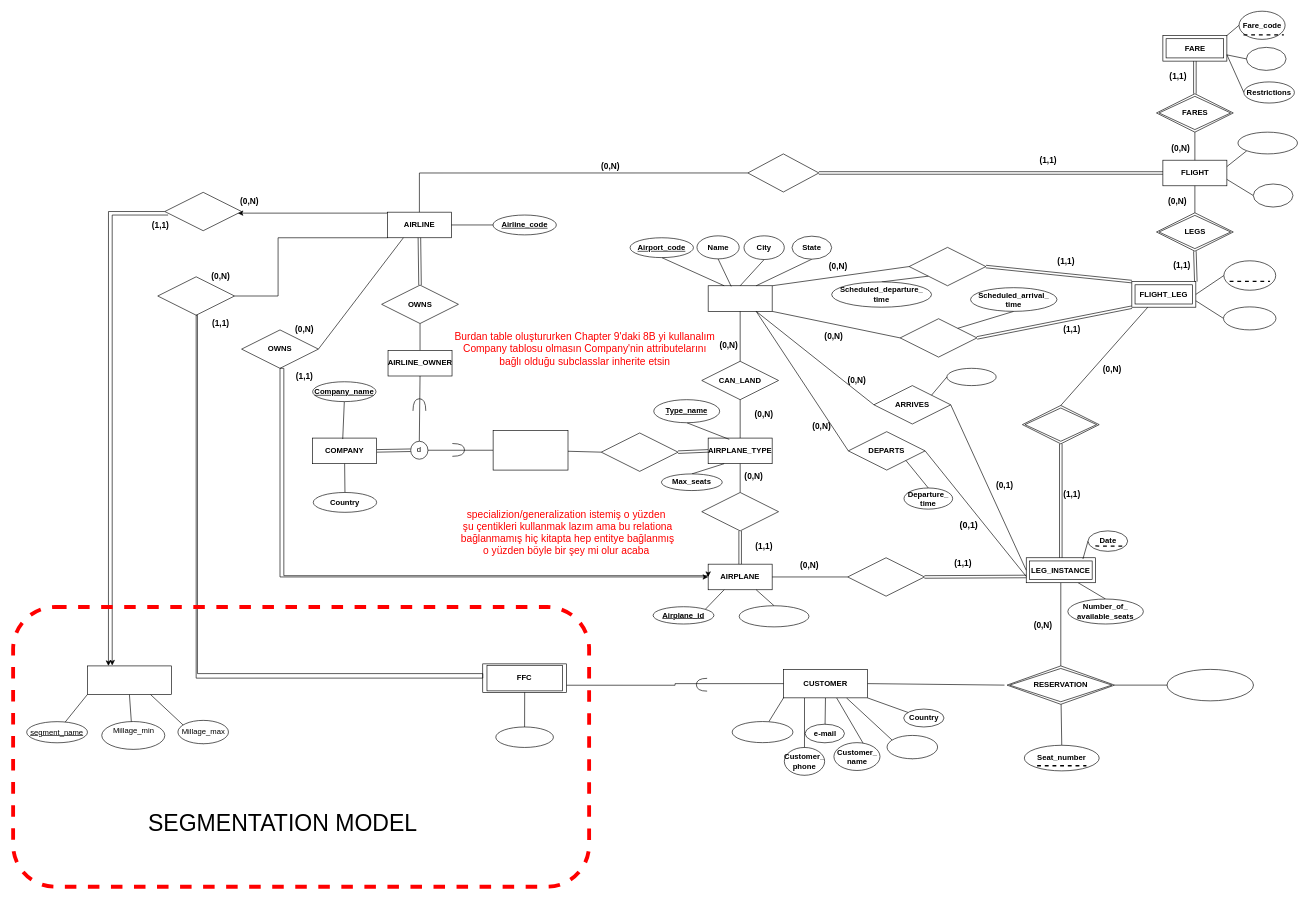
Image size: 1309x900. Some labels were removed from this diagram. The shapes that lost their labels are listed below. From the top down, each one's box as (x1, y1, x2, y2) in pixels, then its label:
(1246, 47, 1286, 70): Amount
(1237, 132, 1297, 154): Flight_number
(747, 153, 819, 192): HAS
(164, 192, 242, 231): OFFERS
(1253, 183, 1293, 207): Weekdays
(908, 247, 986, 286): DEPARTURE_ AIRPORT
(1223, 260, 1276, 290): Leg_number
(157, 276, 235, 315): LOGS
(708, 285, 772, 311): AIRPORT
(900, 318, 977, 357): ARRIVAL_ AIRPORT
(1223, 306, 1276, 330): Mileage
(946, 368, 996, 386): Arrival_time
(1022, 405, 1099, 444): INSTANCE_OF
(492, 430, 568, 470): AIRPLANE_ MANUFACTURER
(601, 432, 678, 471): MANUFACTURES
(701, 492, 779, 531): TYPE
(847, 557, 924, 596): ASSIGNED
(739, 605, 809, 627): Total_number_ of_seats
(87, 665, 171, 694): SEGMENT
(1166, 669, 1253, 701): Checked_in
(495, 726, 553, 747): Total_milage
(732, 721, 793, 743): Passport_ number
(886, 735, 938, 759): Address
